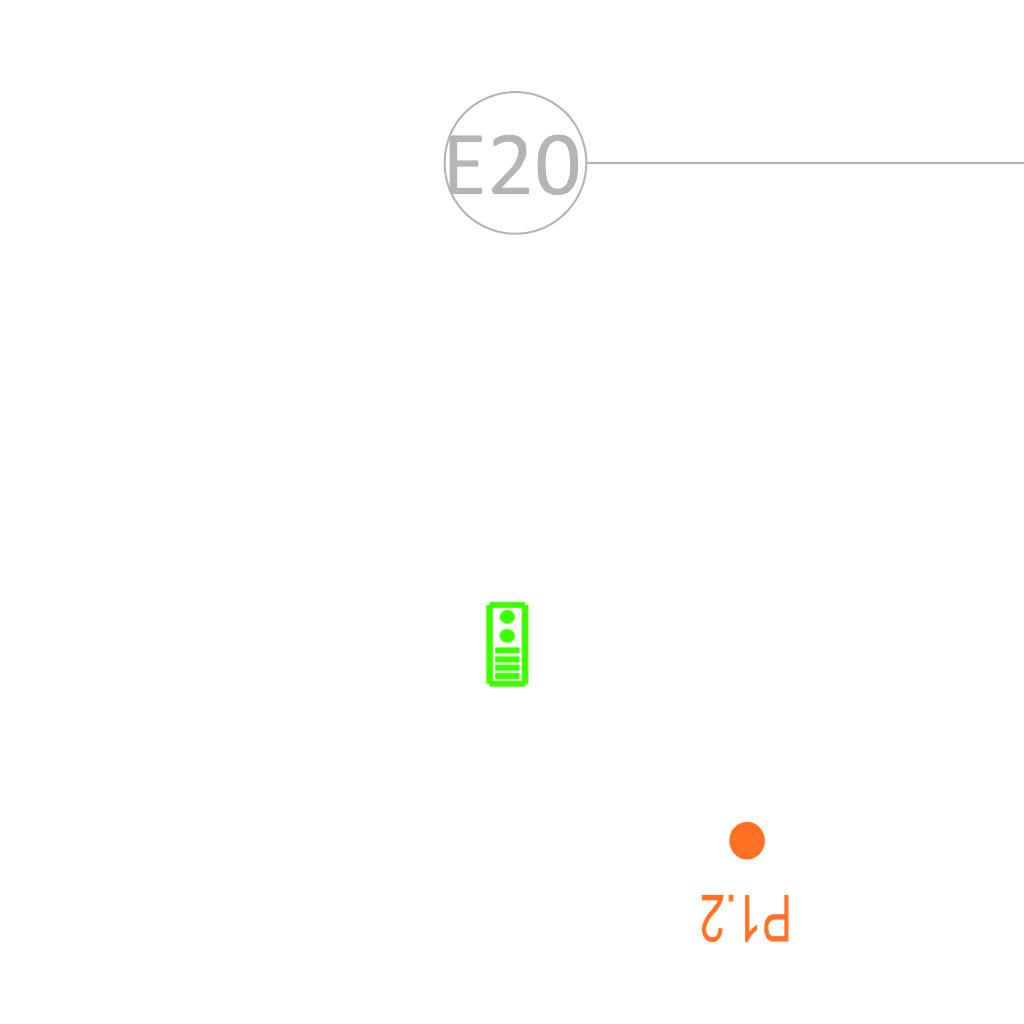Downlight_LED_Einbauleuchten_Flur: (699, 818, 792, 946)
Gegensprechanlage_mit_Video: (483, 600, 530, 688)
